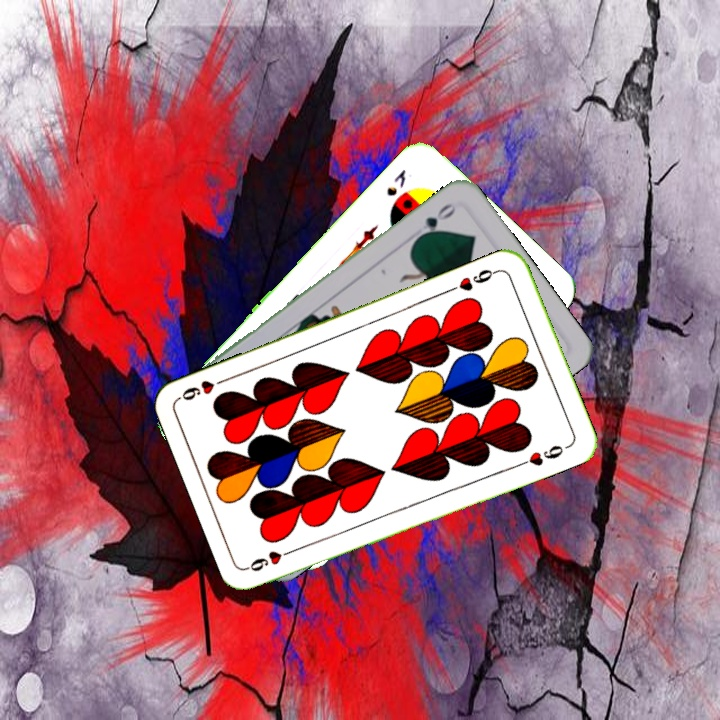GO: (412, 199, 461, 243)
H9: (244, 543, 301, 575), (446, 265, 503, 294)
SK: (382, 165, 409, 199)
